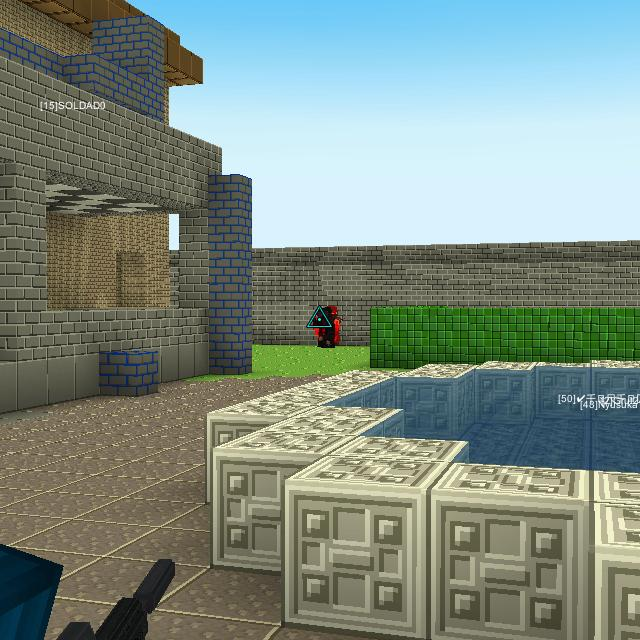enemy: (316, 307, 335, 349), (330, 306, 341, 346)
